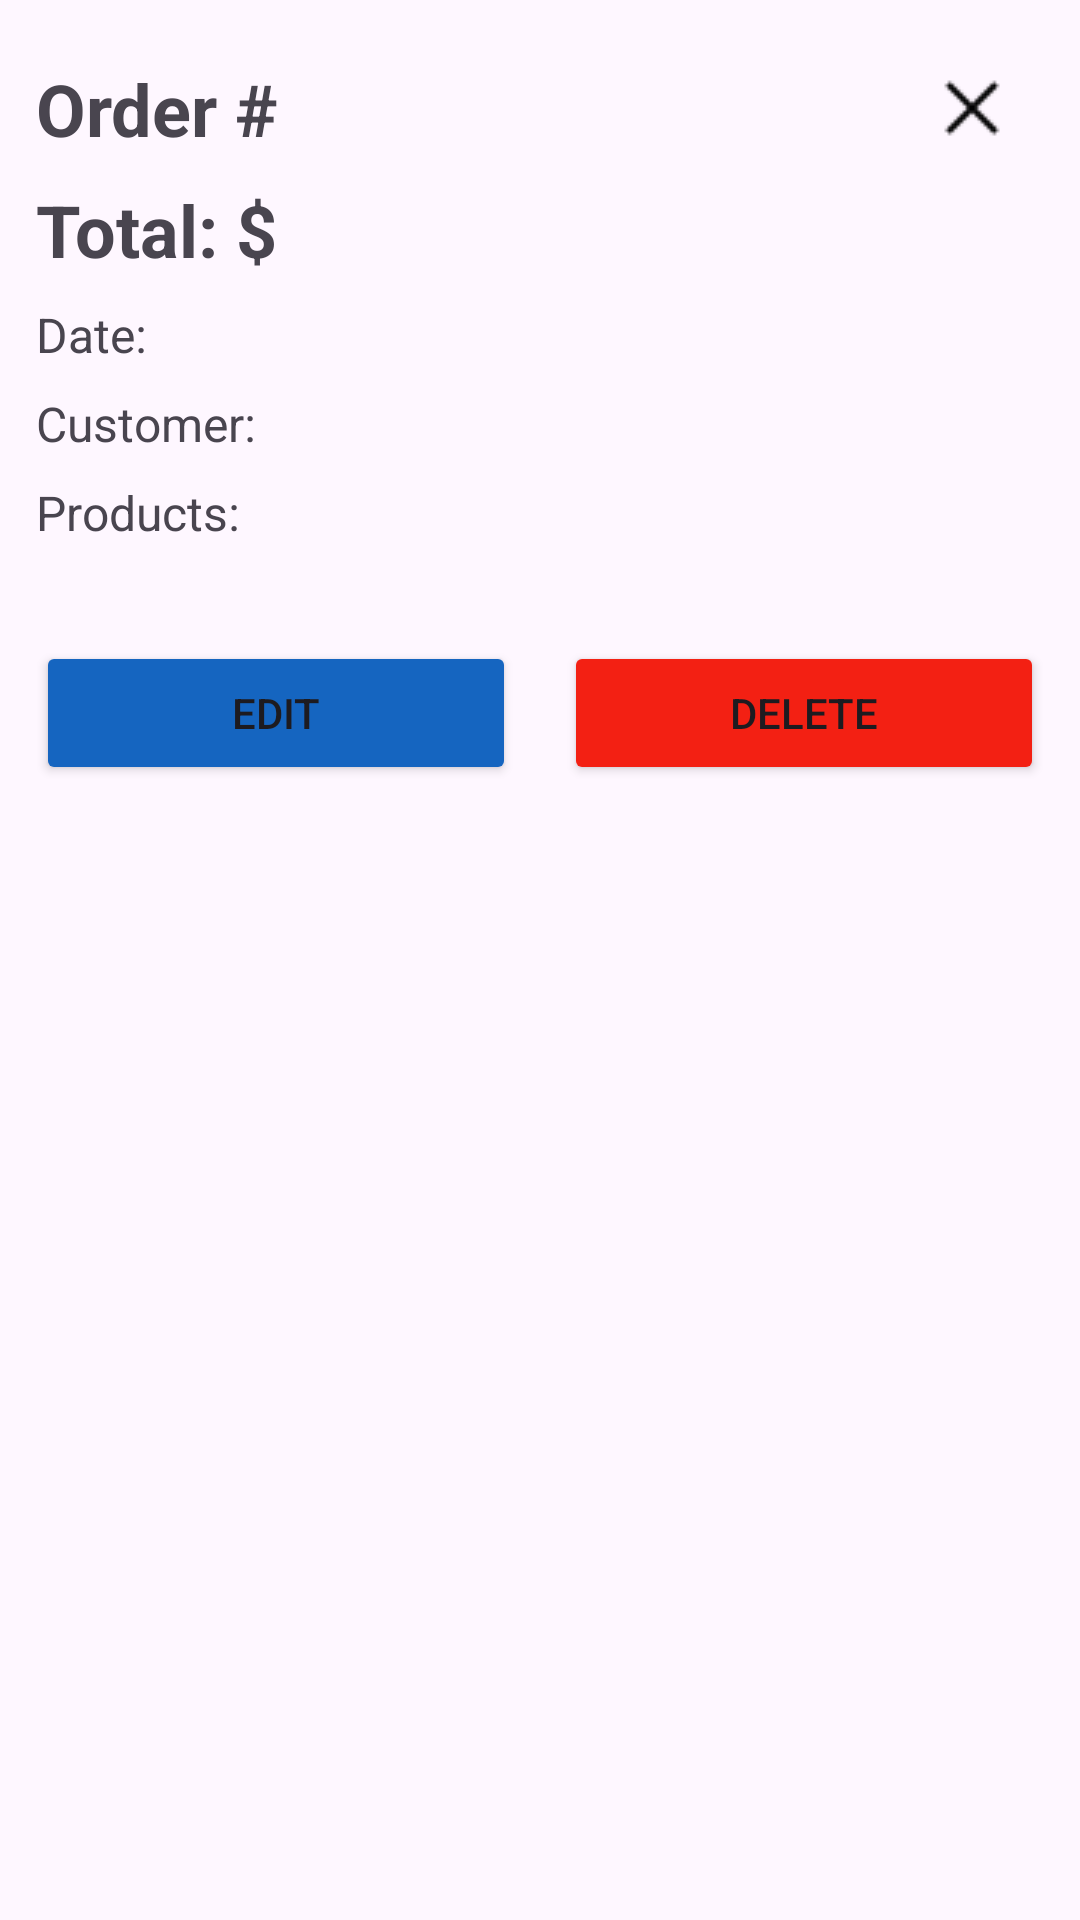

Icons on this 1080x1920 Android screen, each with the point to tap as (x=x, y=y):
Close: (x=972, y=108)
